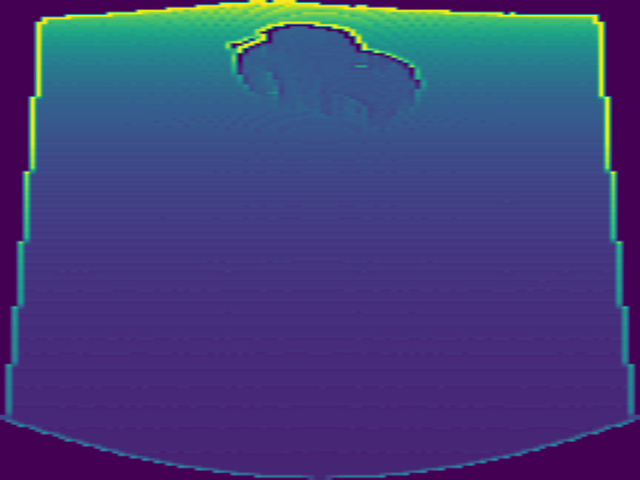car_0027: (230, 23, 424, 127)
